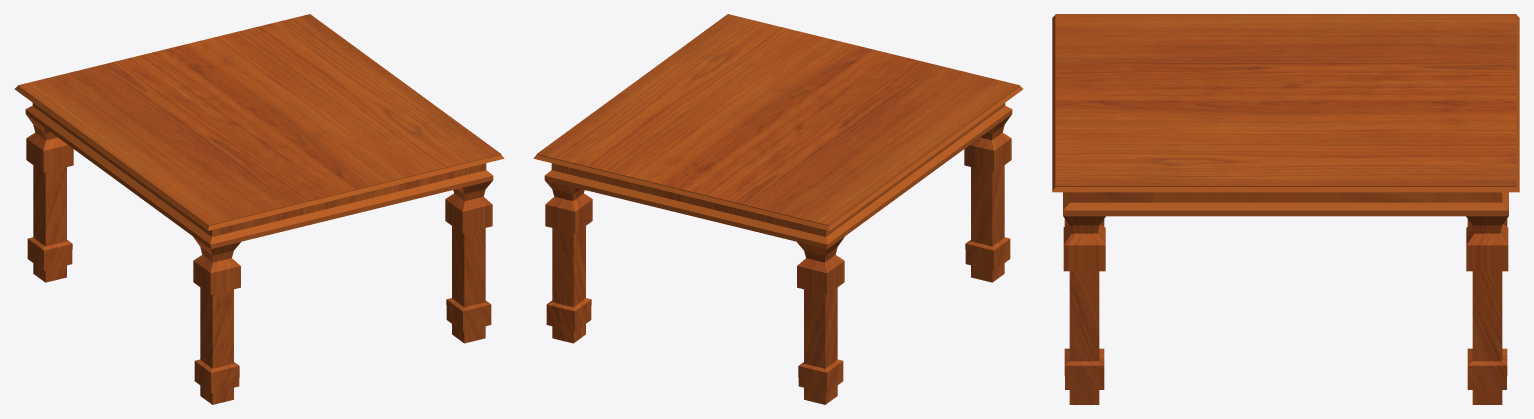
The model's file is stol.fbx.
3 renders of one model, left to right at view 1: azimuth 30°, elevation 25°; view 2: azimuth 150°, elevation 25°; view 3: azimuth 270°, elevation 25°, orthographic. The views are drawn at different scales.
Parts seen in each view (by area): view 1: Куб.005; view 2: Куб.005; view 3: Куб.005.
Boxes of the visible parts, x1,y1,x2,y2 form: Куб.005: (14, 14, 504, 404); Куб.005: (533, 14, 1023, 404); Куб.005: (1052, 14, 1519, 404).
Bounding box in the file's own units: 116 × 69.55 × 131.
